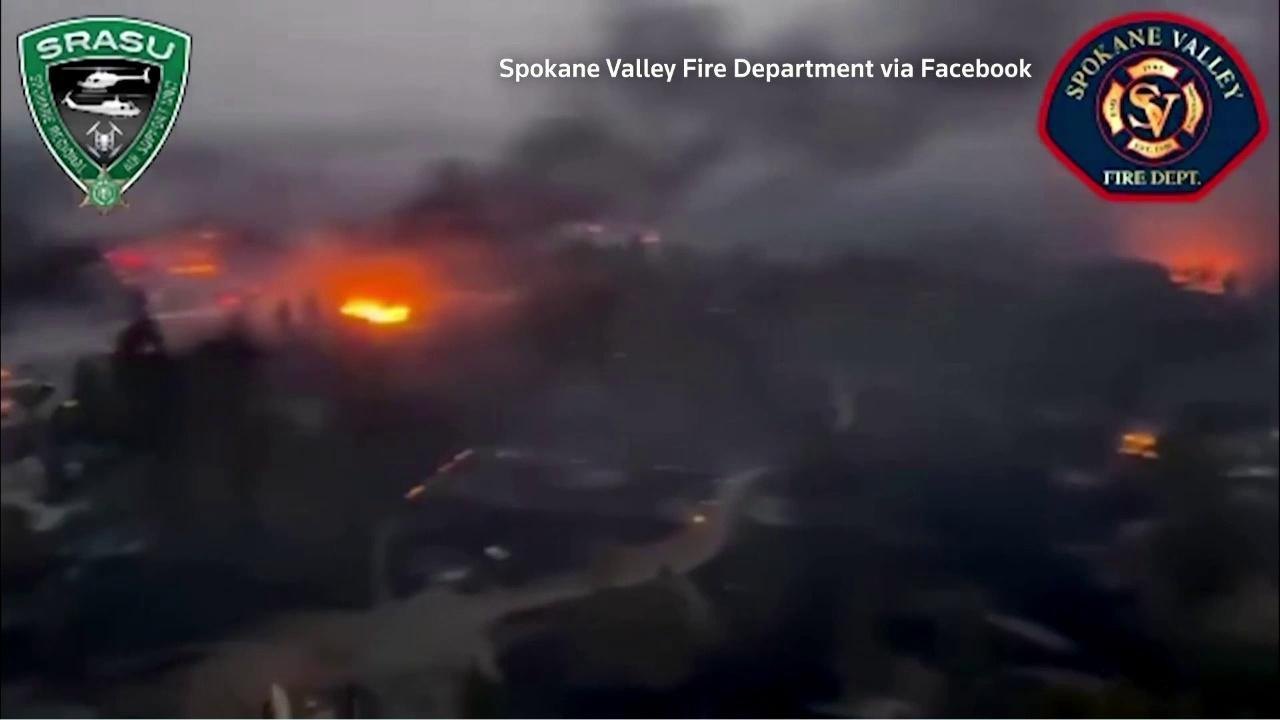fire: (94, 221, 217, 277), (334, 294, 418, 333), (1117, 422, 1162, 462), (433, 447, 475, 472), (402, 482, 427, 500), (0, 396, 13, 415), (0, 367, 14, 381)
smoke: (2, 0, 1280, 532)
